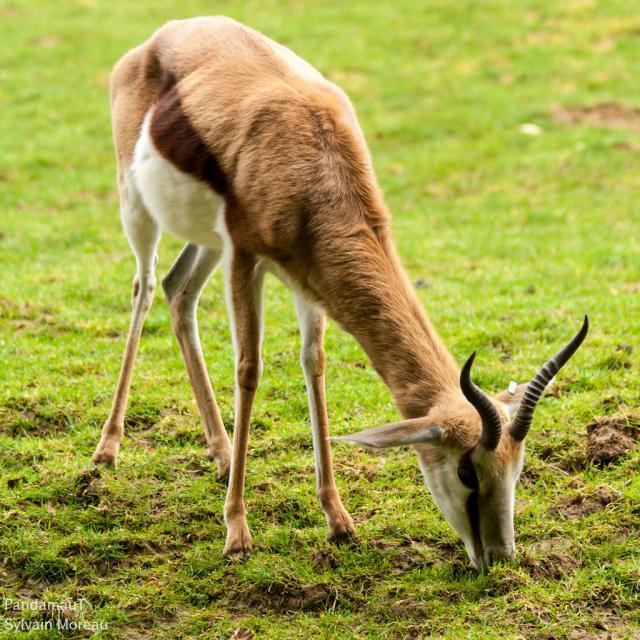Deer: (90, 12, 589, 576)
